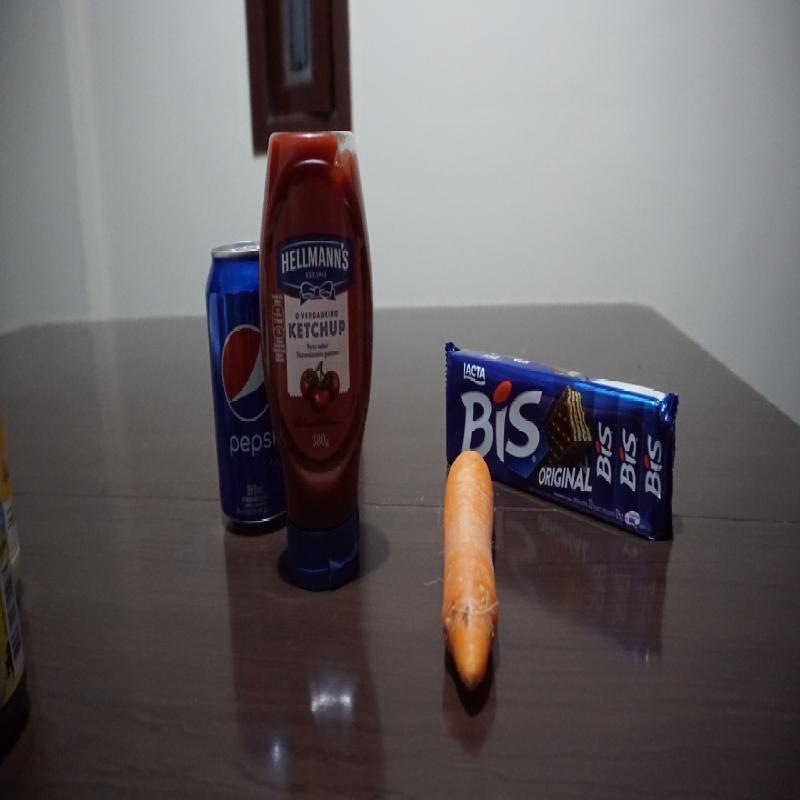Carrot: (443, 450, 500, 692)
Ketchup: (260, 135, 372, 578)
Soda can: (205, 242, 282, 531)
